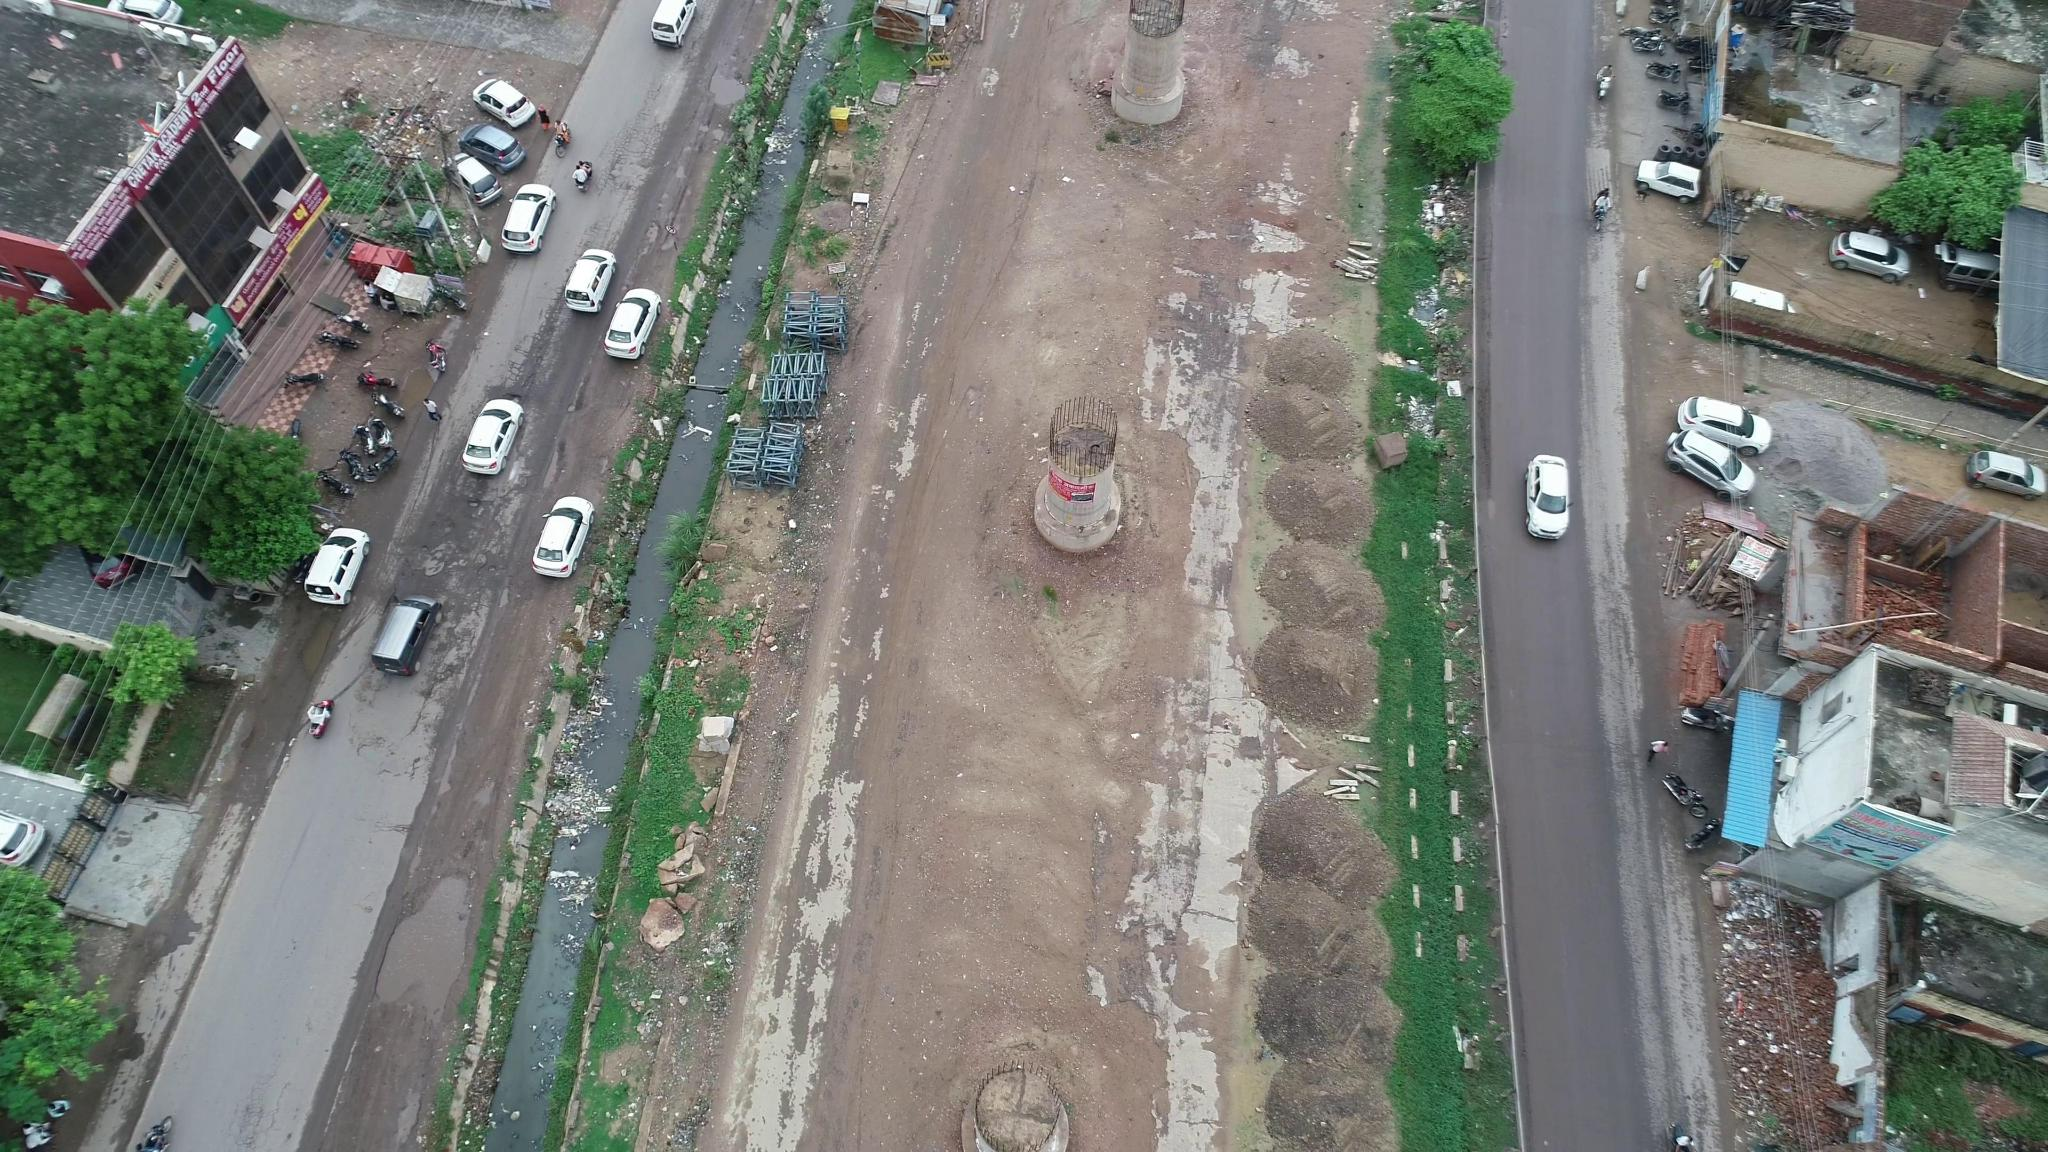Potholes: (444, 489, 499, 546), (553, 398, 589, 423)
